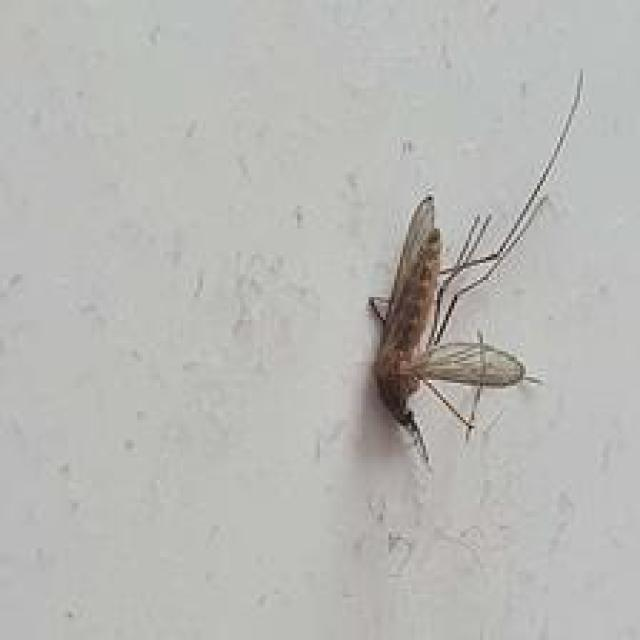Culex: (366, 191, 543, 466)
